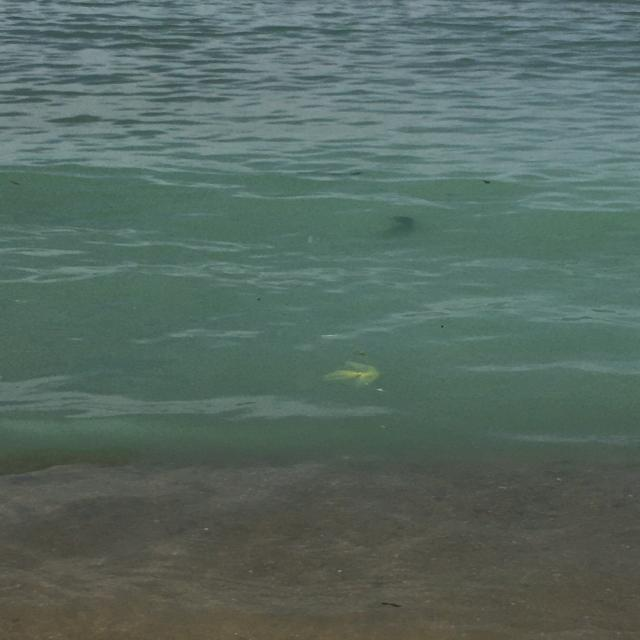Plastic bag: (322, 359, 382, 390), (370, 214, 423, 242)
